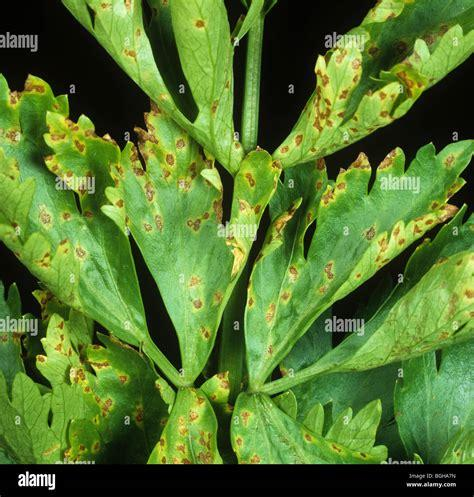black-spot: (264, 262, 299, 327), (179, 262, 215, 322), (159, 150, 192, 193)
